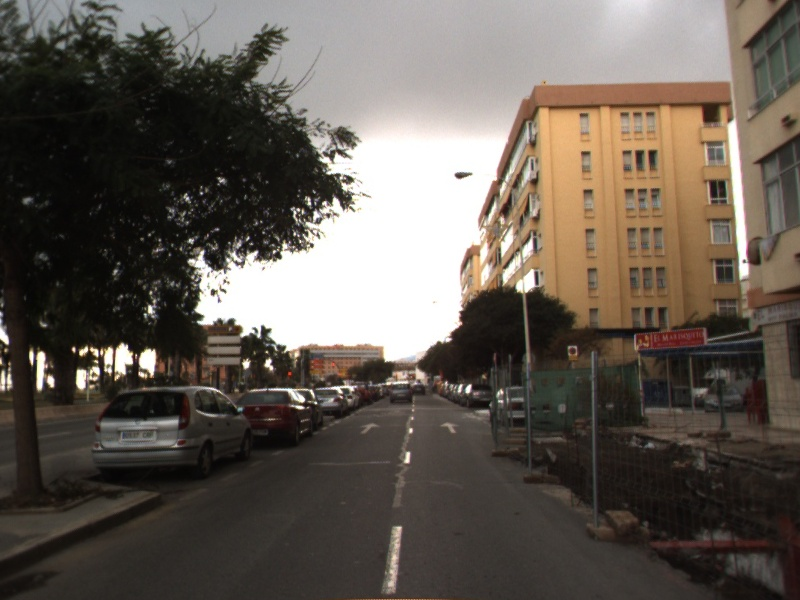STRAIGHT: (358, 421, 383, 435), (439, 420, 462, 434)
